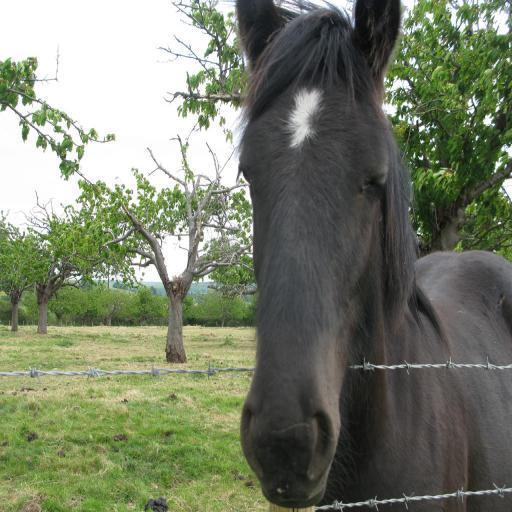horse: (228, 0, 511, 511)
